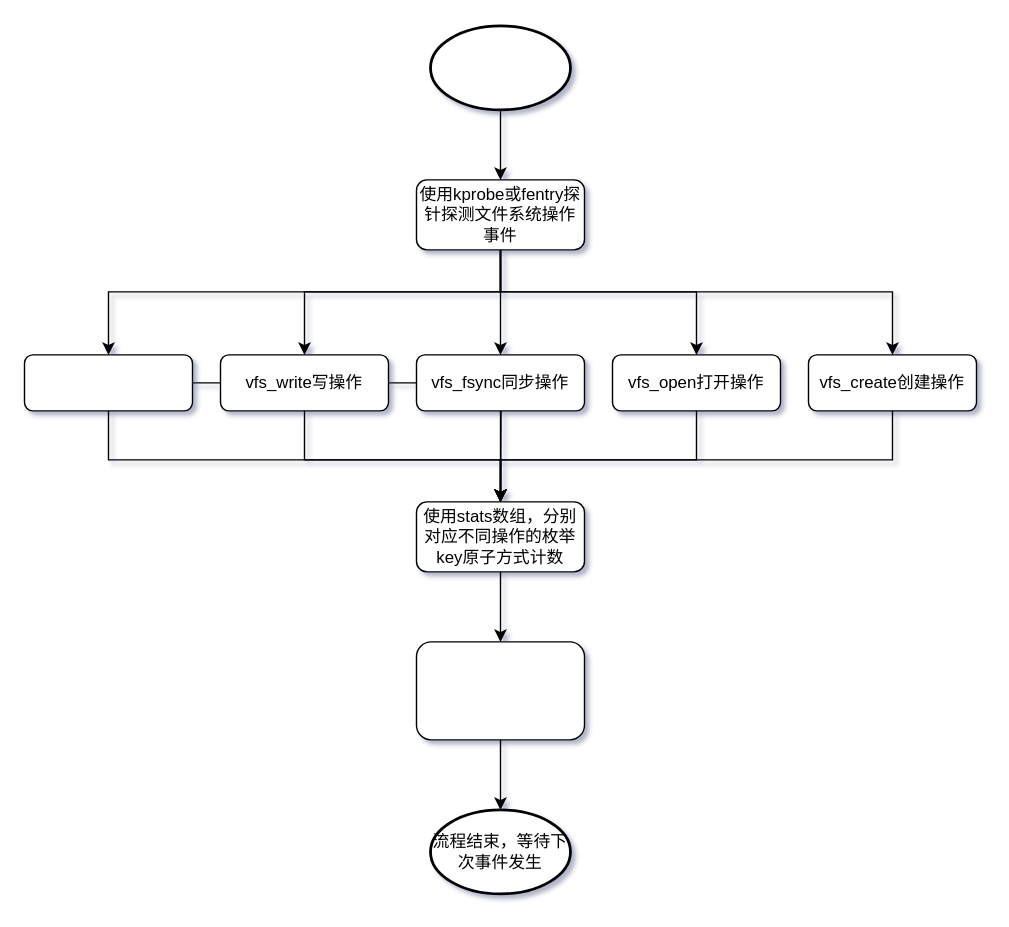
Image size: 1009x927. Some labels were removed from this diagram. Here are the shapes that lost their labels. From the top down, the box of each, then its label:
(428, 24, 571, 111): BPF程序载入
(23, 354, 192, 411): vfs_read读操作
(415, 640, 584, 740): 用户态程序通过bss周期性获取stats数组信息并进行分析和优化，同时清空stats数组
